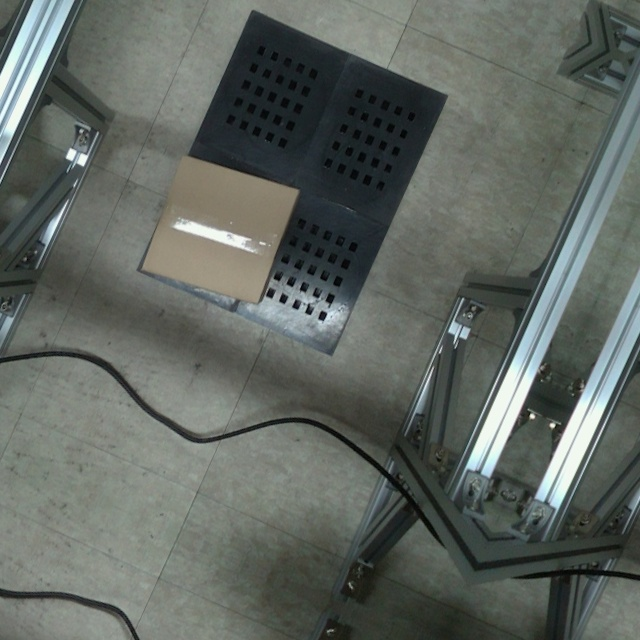box: (134, 151, 303, 306)
pallet: (129, 1, 456, 365)
